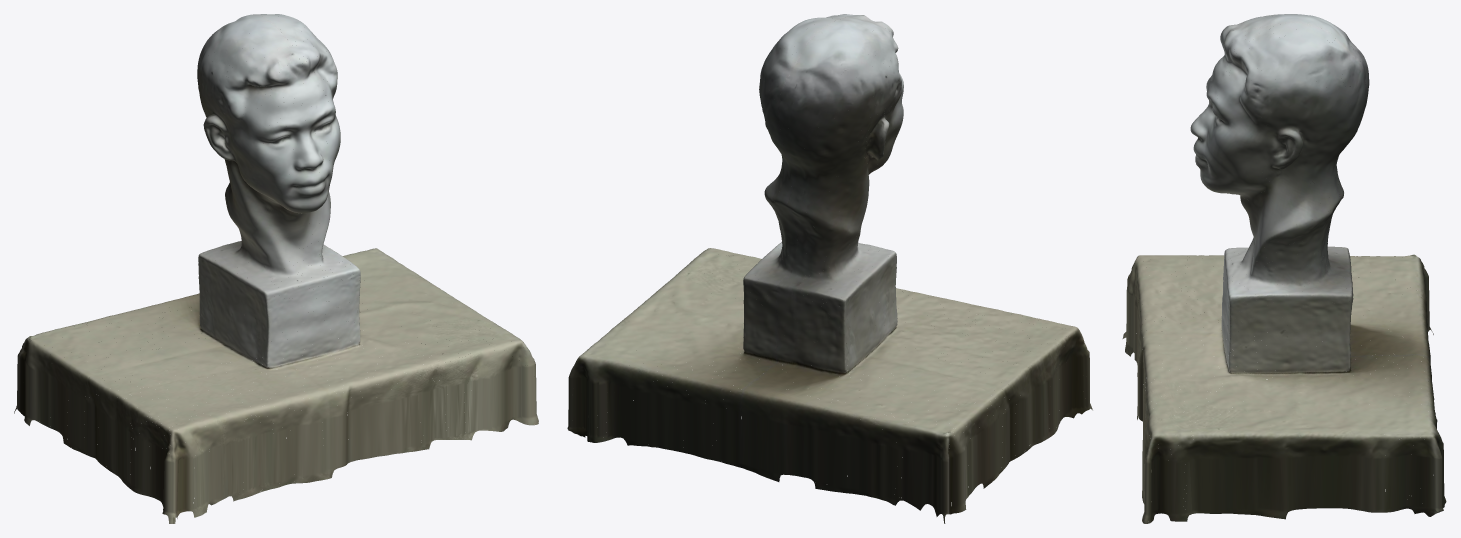
Rendered from 石膏头像_男中青年_桌上男青年01_opt.glb.
3 views of the same model, side by side, from view 1: azimuth 30°, elevation 25°; view 2: azimuth 150°, elevation 25°; view 3: azimuth 270°, elevation 25° (orthographic).
Visible parts, largest first — view 1: surfaceShader4SG, surfaceShader4SG_2, surfaceShader4SG_3, surfaceShader4SG_1; view 2: surfaceShader4SG, surfaceShader4SG_2, surfaceShader4SG_3, surfaceShader4SG_1; view 3: surfaceShader4SG, surfaceShader4SG_2, surfaceShader4SG_1, surfaceShader4SG_3.
Boxes of the visible parts, x1,y1,x2,y2 form: surfaceShader4SG: (16,14,538,523); surfaceShader4SG_2: (14,14,538,523); surfaceShader4SG_3: (22,22,535,519); surfaceShader4SG_1: (31,15,530,523); surfaceShader4SG: (570,14,1092,516); surfaceShader4SG_2: (567,14,1091,523); surfaceShader4SG_3: (572,15,1085,504); surfaceShader4SG_1: (573,16,1083,508); surfaceShader4SG: (1122,16,1443,523); surfaceShader4SG_2: (1125,14,1446,521); surfaceShader4SG_1: (1129,26,1438,503); surfaceShader4SG_3: (1126,17,1439,517).
Size of the model in its own units: 0.3033 by 0.3 by 0.2167.
Materials: 1 (1 with a texture image).
